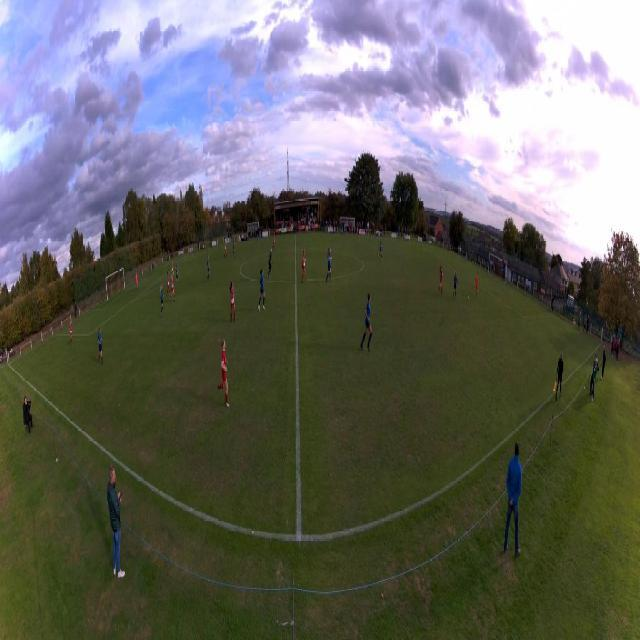ball: (467, 296, 469, 301)
player: (217, 339, 230, 408), (360, 293, 373, 352), (258, 267, 266, 312), (326, 247, 333, 284), (230, 281, 236, 323), (267, 248, 273, 279), (98, 328, 103, 365), (302, 248, 307, 284), (170, 274, 176, 303), (438, 266, 444, 295), (453, 271, 459, 300), (160, 285, 165, 316), (207, 255, 211, 282), (475, 272, 479, 299), (167, 272, 171, 299), (378, 239, 383, 260), (69, 321, 73, 347), (272, 232, 277, 252), (176, 260, 179, 281), (224, 241, 227, 258), (233, 238, 236, 255), (172, 261, 174, 278), (136, 273, 138, 290)
